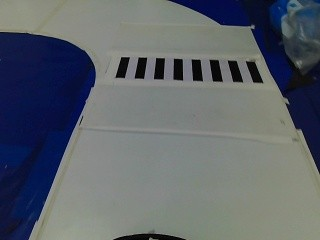crosswalk: (104, 49, 268, 89)
